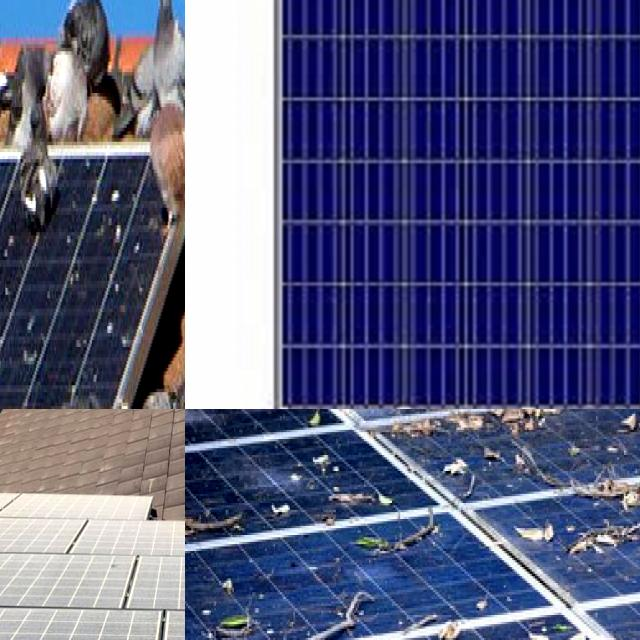bird: (108, 161, 144, 269), (98, 302, 136, 379), (20, 295, 50, 383), (0, 179, 24, 255), (0, 240, 25, 300), (0, 166, 15, 248), (0, 307, 18, 374), (0, 239, 11, 326), (0, 228, 15, 291), (0, 207, 19, 253), (0, 348, 14, 406)
crack: (271, 0, 640, 409)
dust: (0, 553, 115, 600), (0, 612, 153, 640), (146, 565, 185, 600)
